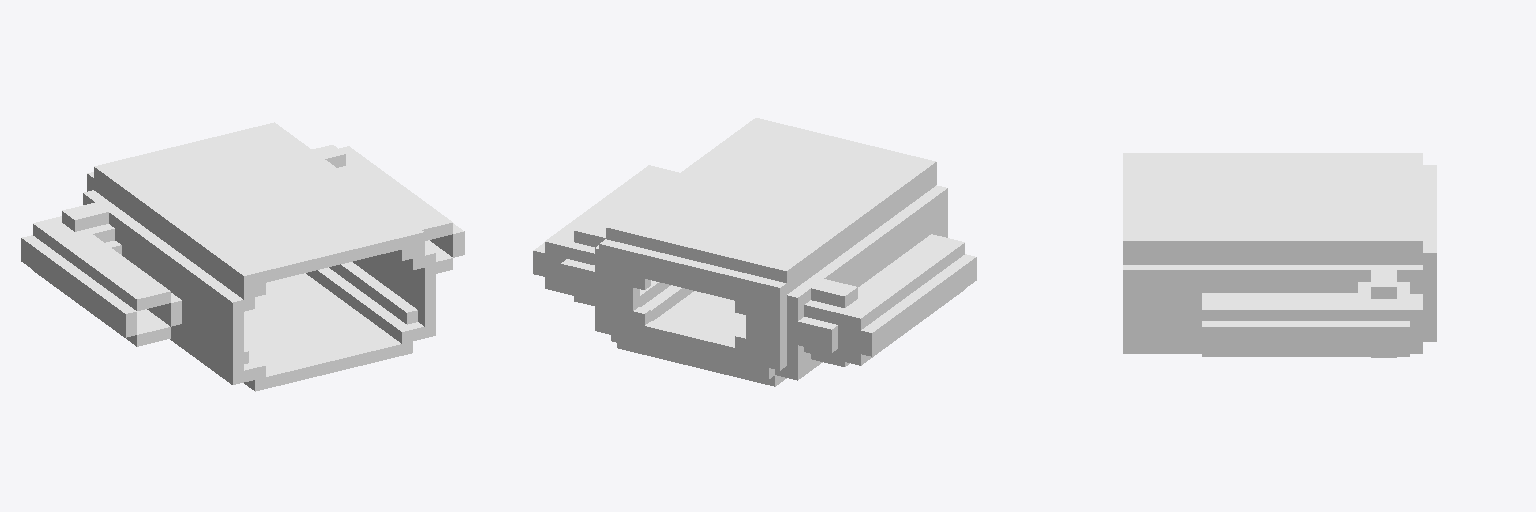
The model's file is IronArmor.obj.
3 renders of one model, left to right at view 1: azimuth 30°, elevation 25°; view 2: azimuth 150°, elevation 25°; view 3: azimuth 270°, elevation 25°, orthographic.
Parts seen in each view (by area): view 1: object 1; view 2: object 1; view 3: object 1.
Part boxes in pixels (left/top/right/bottom): object 1: left=21, top=122, right=464, bottom=391; object 1: left=533, top=118, right=976, bottom=386; object 1: left=1123, top=153, right=1436, bottom=357.
Bounding box in the file's own units: 3 × 1 × 2.4.